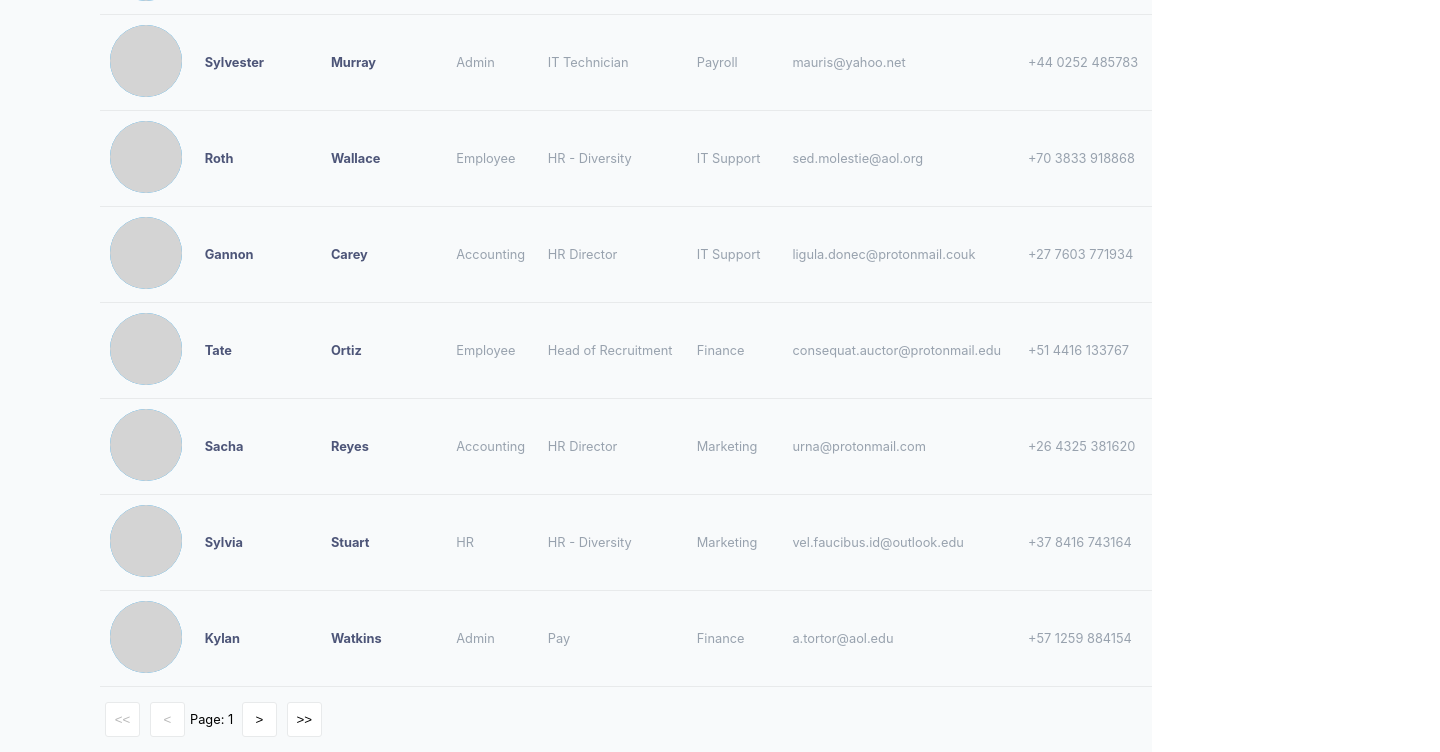
it: <EmployeeList/> testing user interaction › should go to last page once >> button is clicked
(page scrolled)
Click the button ">>": (304, 720) x1=287 y1=702 x2=322 y2=737
(page scrolled)
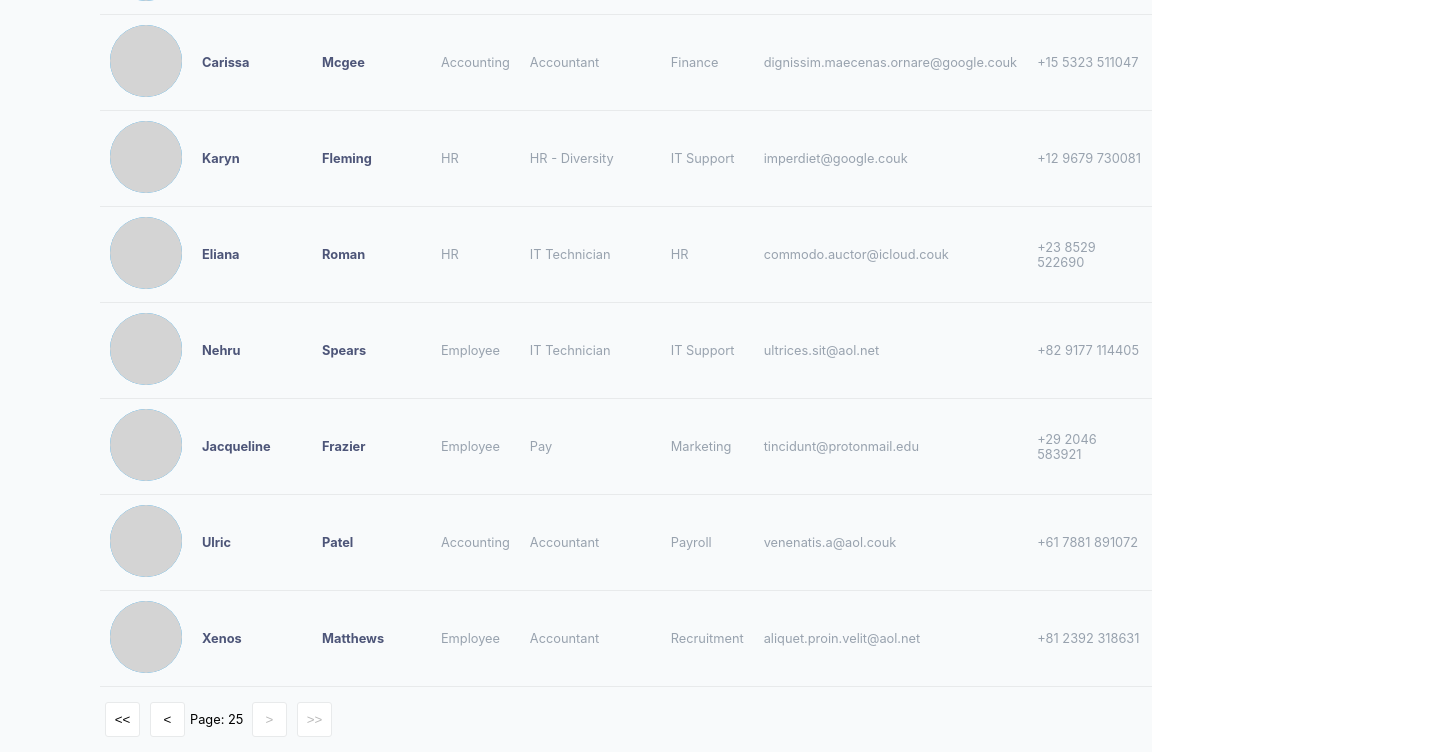
Expected: the text "Page: 25" is shown, x1=190 y1=712 x2=247 y2=727
